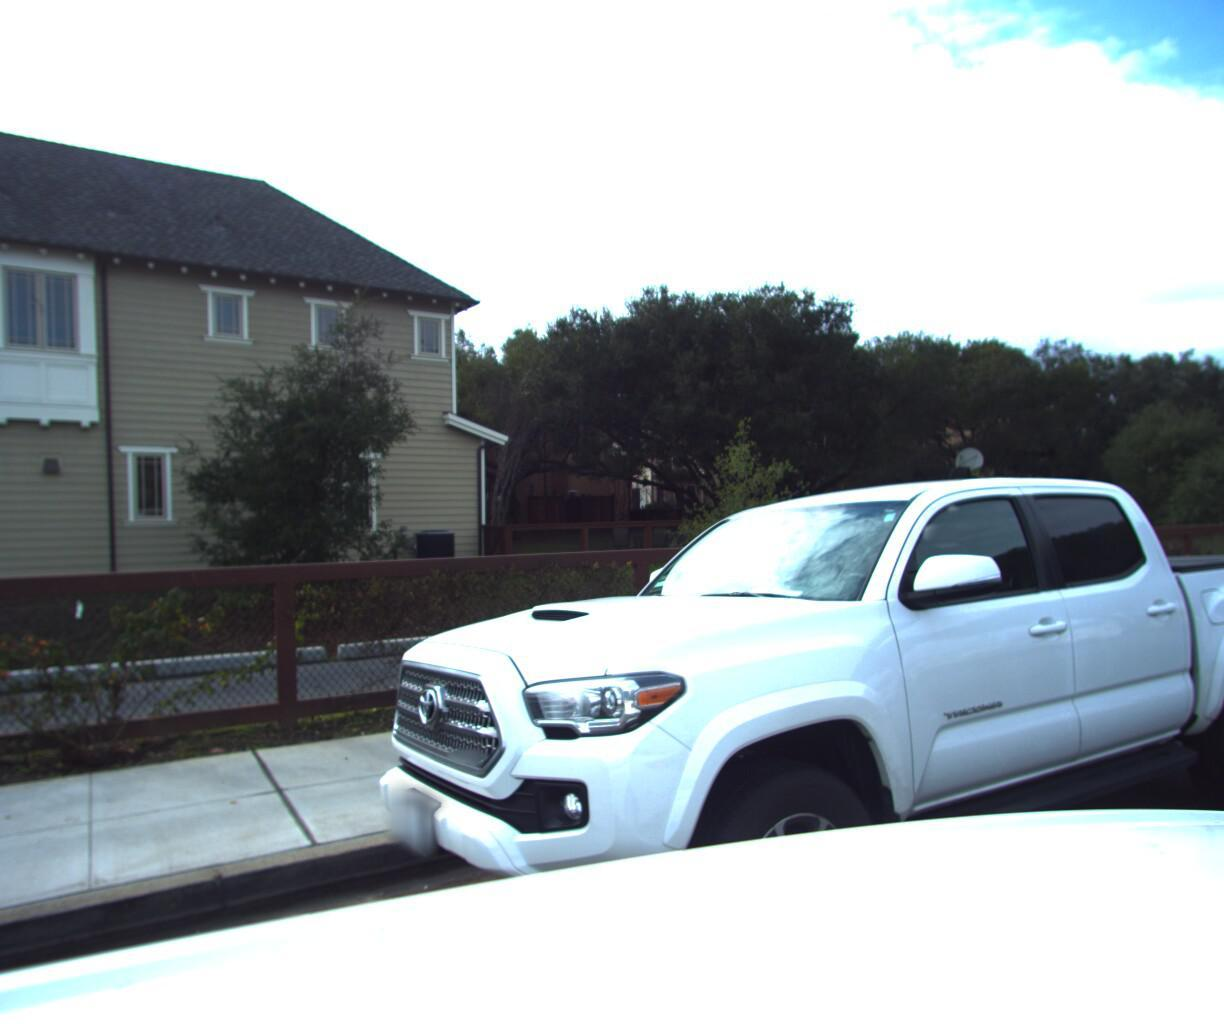car: (323, 436, 1224, 1024), (1220, 309, 1224, 738)
